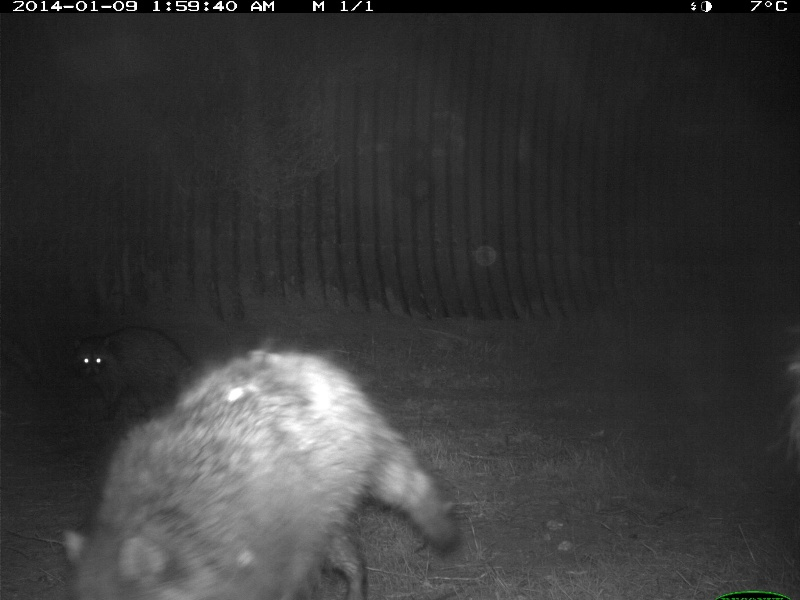raccoon: (68, 335, 460, 600), (22, 324, 117, 389)
